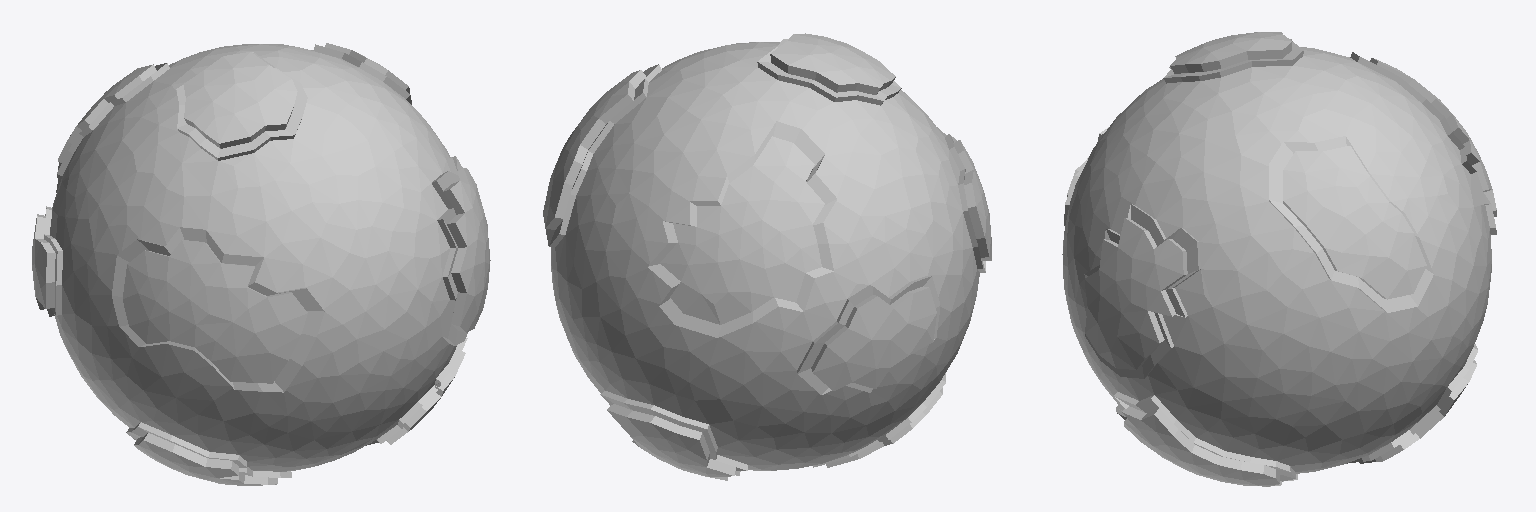
Rendered from planetH.obj.
The picture shows the model from 3 angles: view 1: azimuth 30°, elevation 25°; view 2: azimuth 150°, elevation 25°; view 3: azimuth 270°, elevation 25°; orthographic projection.
Visible parts, largest first — view 1: Planet_9_Cube.008; view 2: Planet_9_Cube.008; view 3: Planet_9_Cube.008.
Boxes of the visible parts, x1=… form: Planet_9_Cube.008: x1=32, y1=43, x2=490, y2=485; Planet_9_Cube.008: x1=543, y1=33, x2=991, y2=480; Planet_9_Cube.008: x1=1062, y1=32, x2=1496, y2=486.
Size of the model in its own units: 2.15 by 2.22 by 2.14.